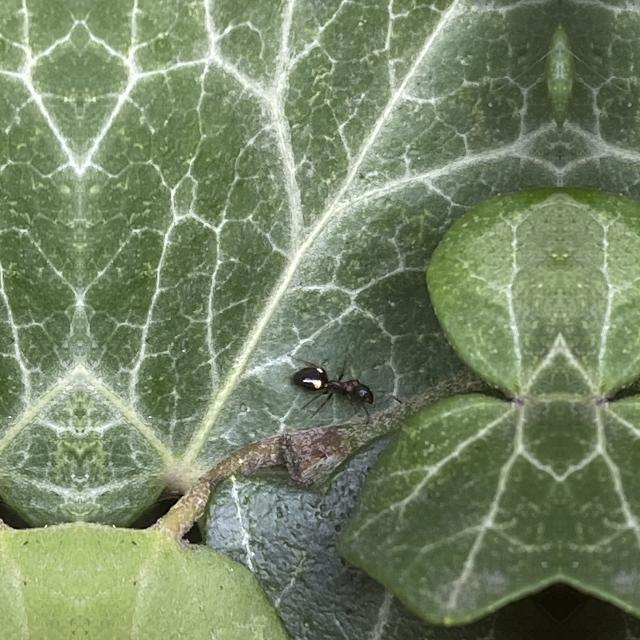Dolichoderus: (284, 340, 384, 420)
